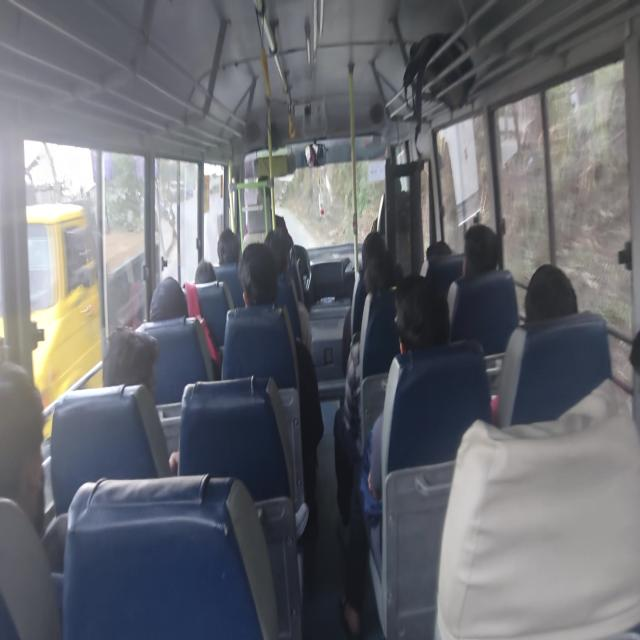person: (0, 357, 55, 537), (395, 266, 450, 366), (105, 324, 172, 399), (526, 259, 585, 342), (241, 234, 280, 309), (146, 274, 193, 331), (462, 215, 502, 280), (359, 244, 392, 296), (262, 221, 300, 266), (422, 223, 454, 274), (195, 259, 219, 300), (382, 166, 408, 202), (218, 226, 240, 268), (361, 224, 387, 258), (258, 170, 280, 202)
